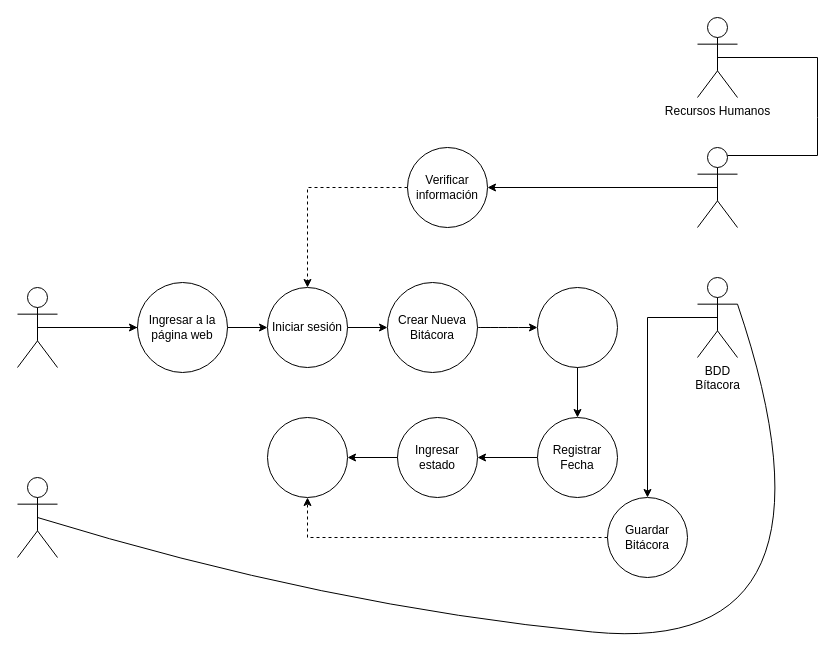
Image size: 836x652. Some labels were removed from this diagram. The centre of each missing label's shape, as x and y in pixels:
Admin: point 37,517
Añadir descripcion: point 577,327
BDD Usuarios: point 717,187
Enviar Bitácora: point 307,457
Usuario: point 37,327
